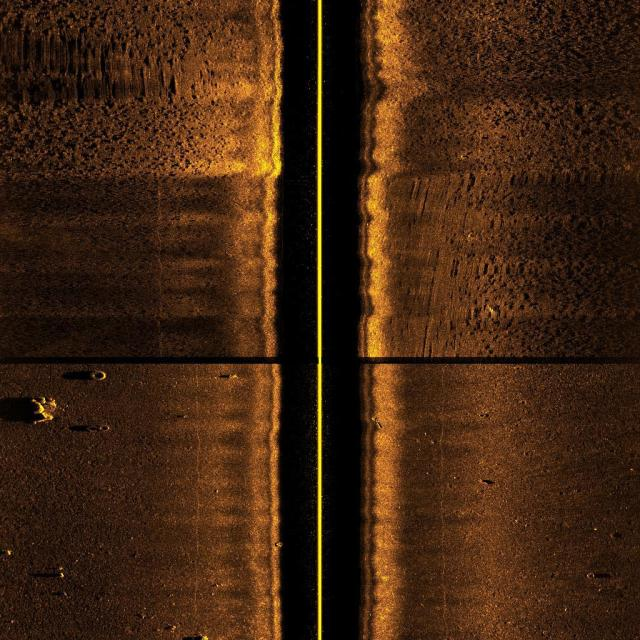other: (23, 399, 65, 425), (88, 368, 118, 387), (100, 422, 113, 438)
